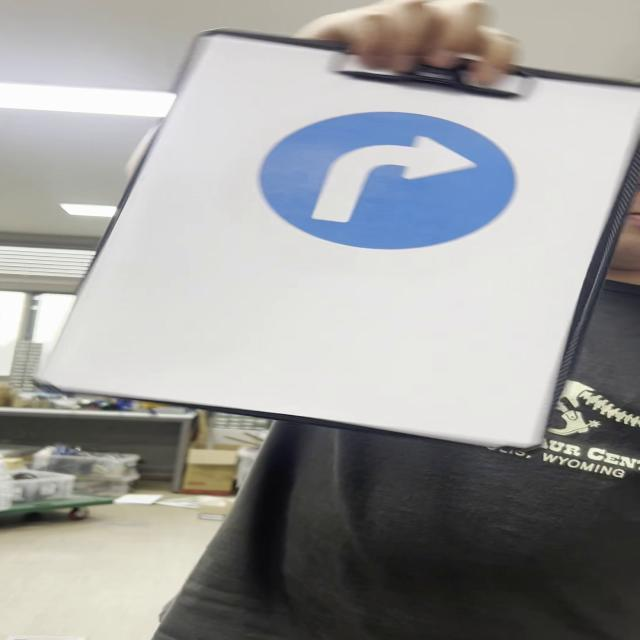right: (269, 111, 519, 249)
